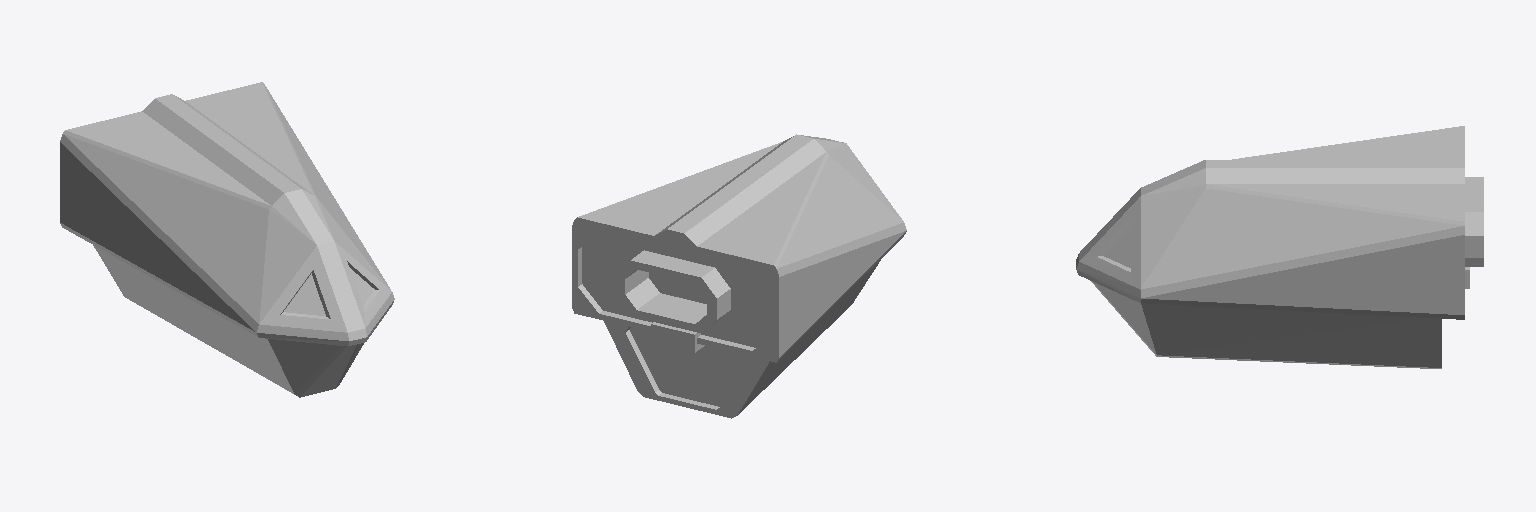
File: oolite_shuttle.obj
3 renders of one model, left to right at view 1: azimuth 30°, elevation 25°; view 2: azimuth 150°, elevation 25°; view 3: azimuth 270°, elevation 25°, orthographic.
Visible parts, largest first — view 1: shut.obj; view 2: shut.obj; view 3: shut.obj.
Boxes of the visible parts, <box> form: shut.obj: <box>60,82,394,397</box>; shut.obj: <box>572,134,906,418</box>; shut.obj: <box>1076,126,1483,368</box>.
Size of the model in its own units: 23.15 by 19.65 by 39.41.